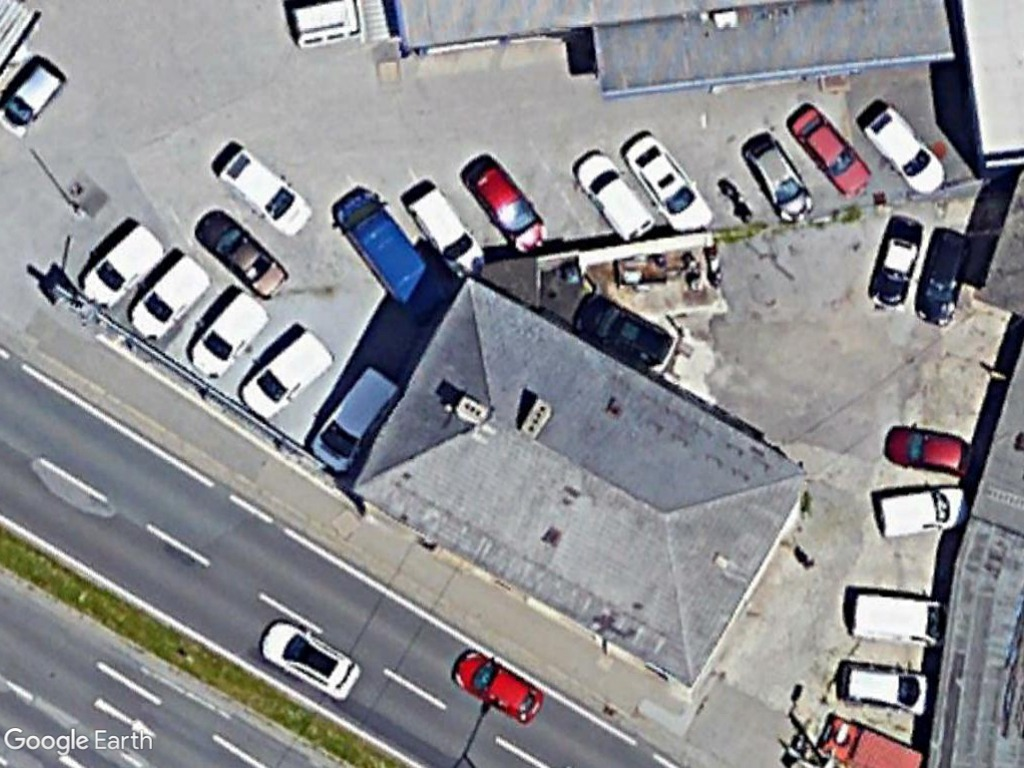car: (248, 613, 371, 706), (460, 151, 555, 264), (622, 128, 717, 236), (566, 287, 679, 375), (214, 143, 314, 242), (194, 205, 290, 303), (403, 182, 491, 283), (787, 99, 873, 202), (568, 148, 658, 246), (448, 643, 549, 730), (860, 103, 949, 200), (737, 131, 819, 229), (912, 221, 978, 331), (828, 658, 943, 718), (866, 208, 927, 310), (0, 56, 68, 146), (883, 420, 981, 480)
van: (330, 183, 451, 319), (306, 359, 410, 475), (235, 325, 338, 424), (181, 286, 273, 379), (124, 248, 213, 344), (77, 219, 169, 310), (869, 475, 975, 543)
